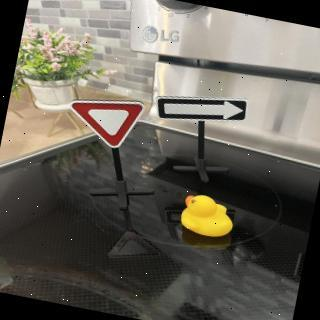duck_regular: (176, 191, 240, 244)
sign_oneway_right: (154, 81, 253, 136)
sign_yield: (63, 89, 148, 154)
